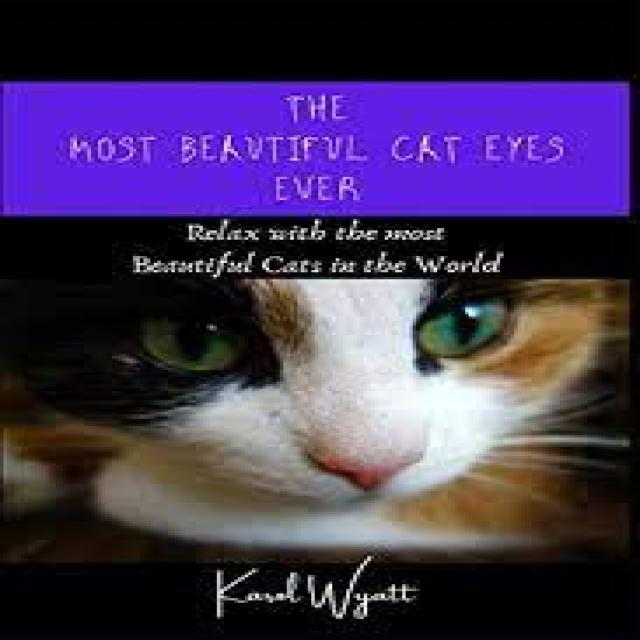Cat: (21, 282, 624, 519)
